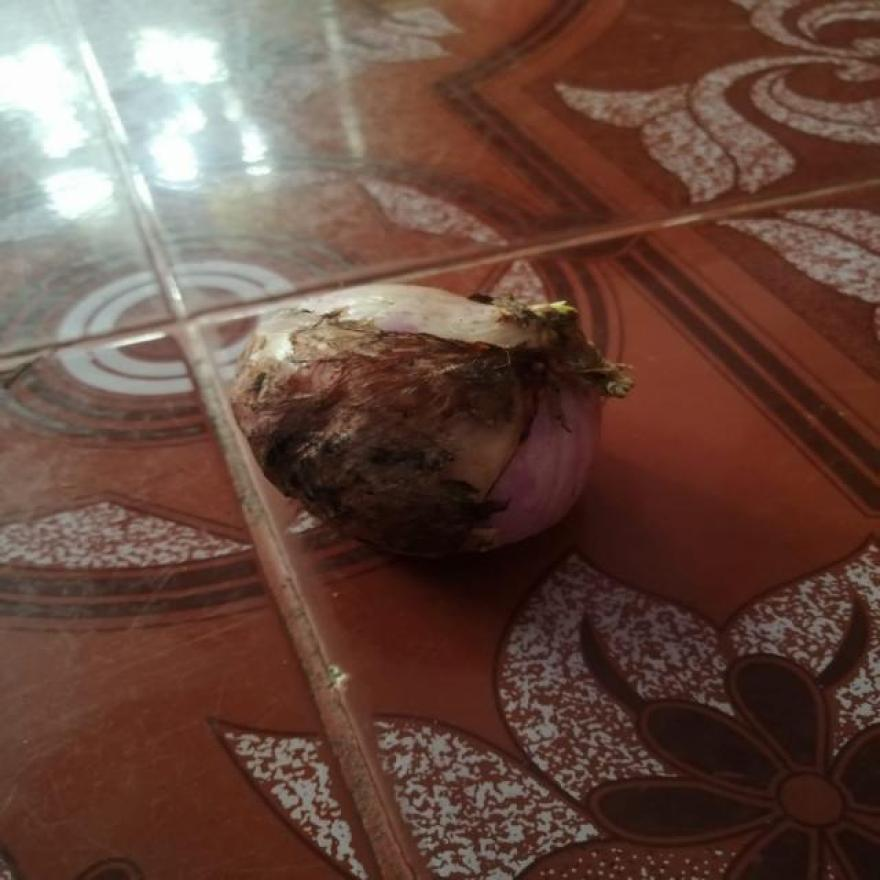Rotten: (283, 415, 495, 543)
